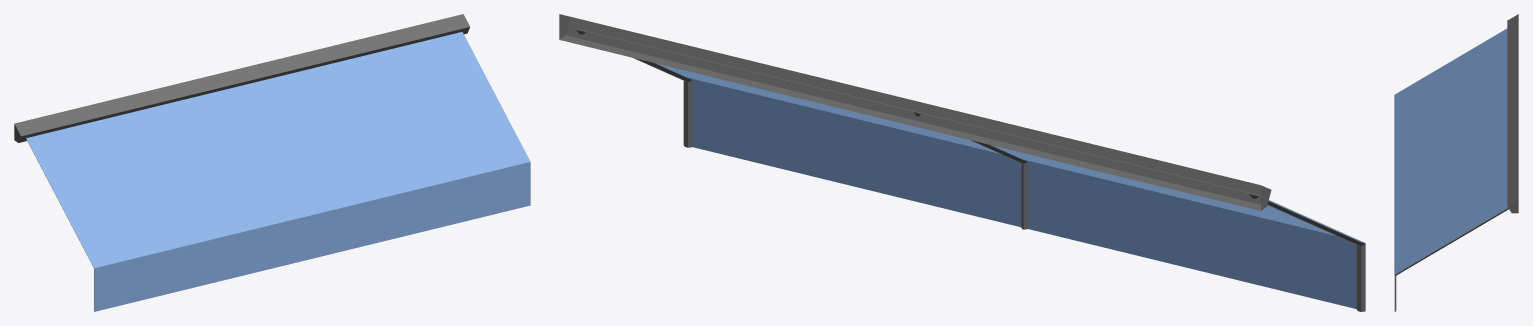
File: AWNING.fbx
3 views of the same model, side by side, from view 1: azimuth 30°, elevation 25°; view 2: azimuth 150°, elevation 25°; view 3: azimuth 270°, elevation 25° (orthographic). The views are drawn at different scales.
Parts seen in each view (by area): view 1: AWNING; view 2: AWNING; view 3: AWNING.
Part boxes in pixels (left/top/right/bottom): AWNING: left=14, top=14, right=530, bottom=311; AWNING: left=559, top=14, right=1365, bottom=311; AWNING: left=1394, top=14, right=1518, bottom=311.
Bounding box in the file's own units: 267 × 77.36 × 75.7.
